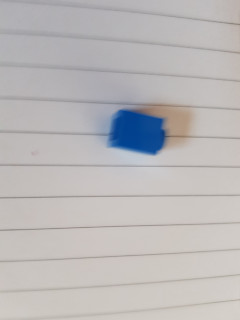1x1 blue: (104, 106, 169, 159)
